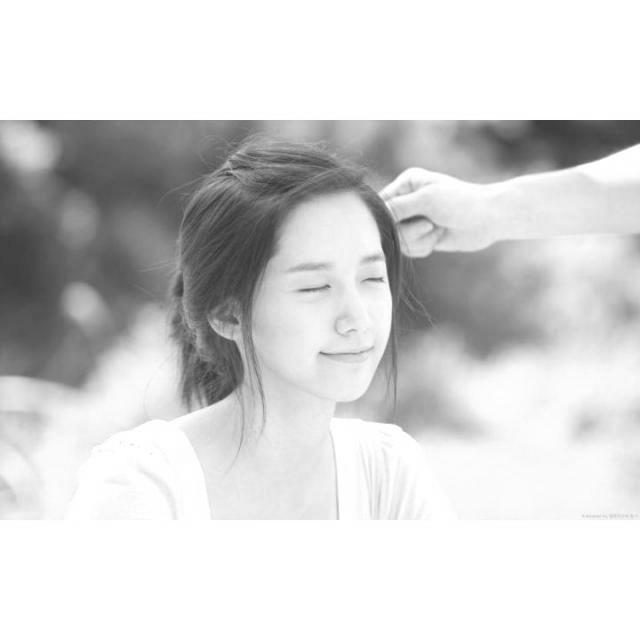real: (236, 206, 395, 405)
